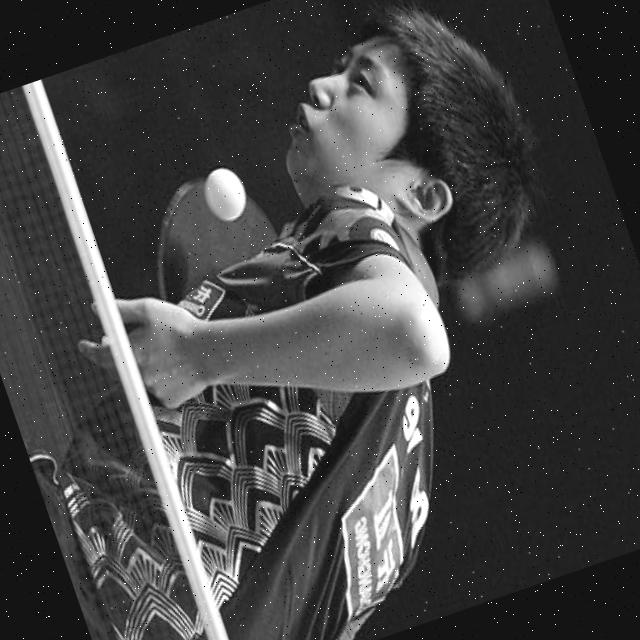ping-pong-ball: (198, 162, 253, 225)
